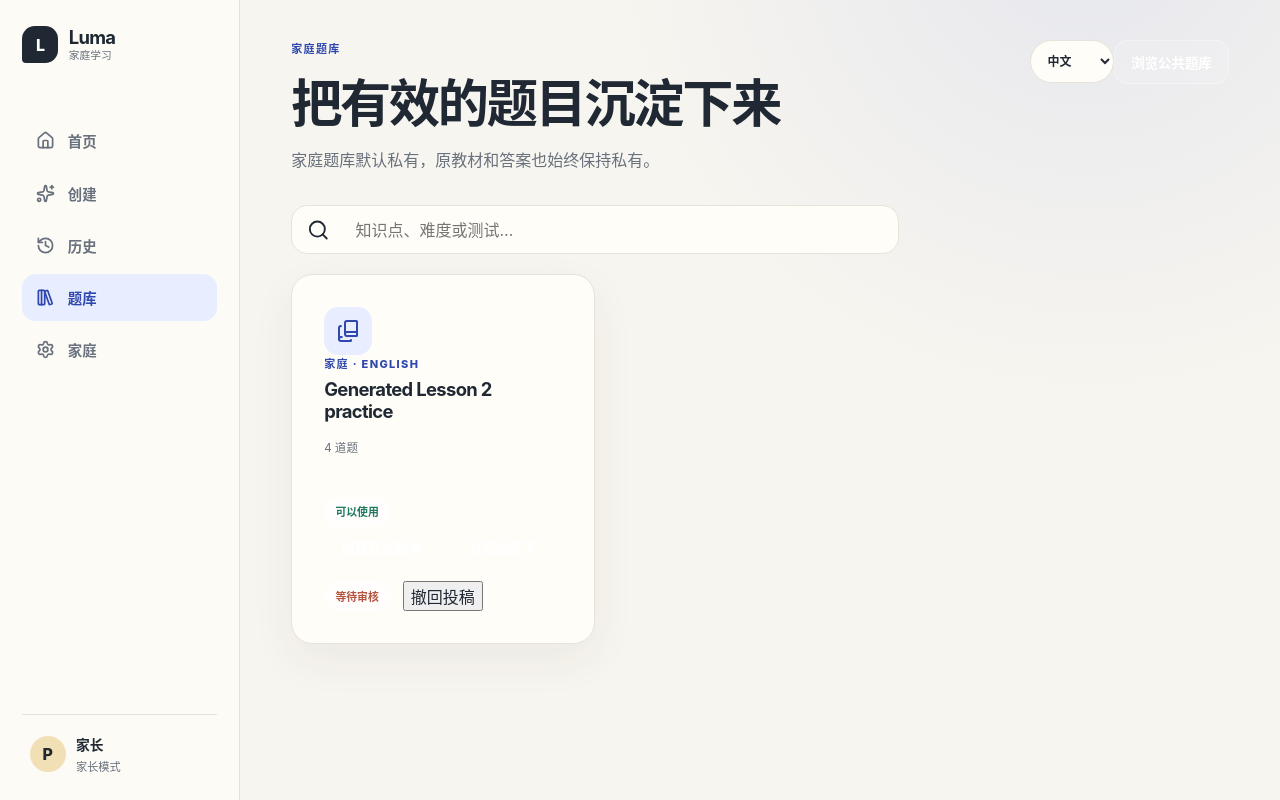
Test: LibraryPage › lets a parent withdraw their own pending public-library submission
Click the button "撤回投稿": (443,596) [403,581,483,611]
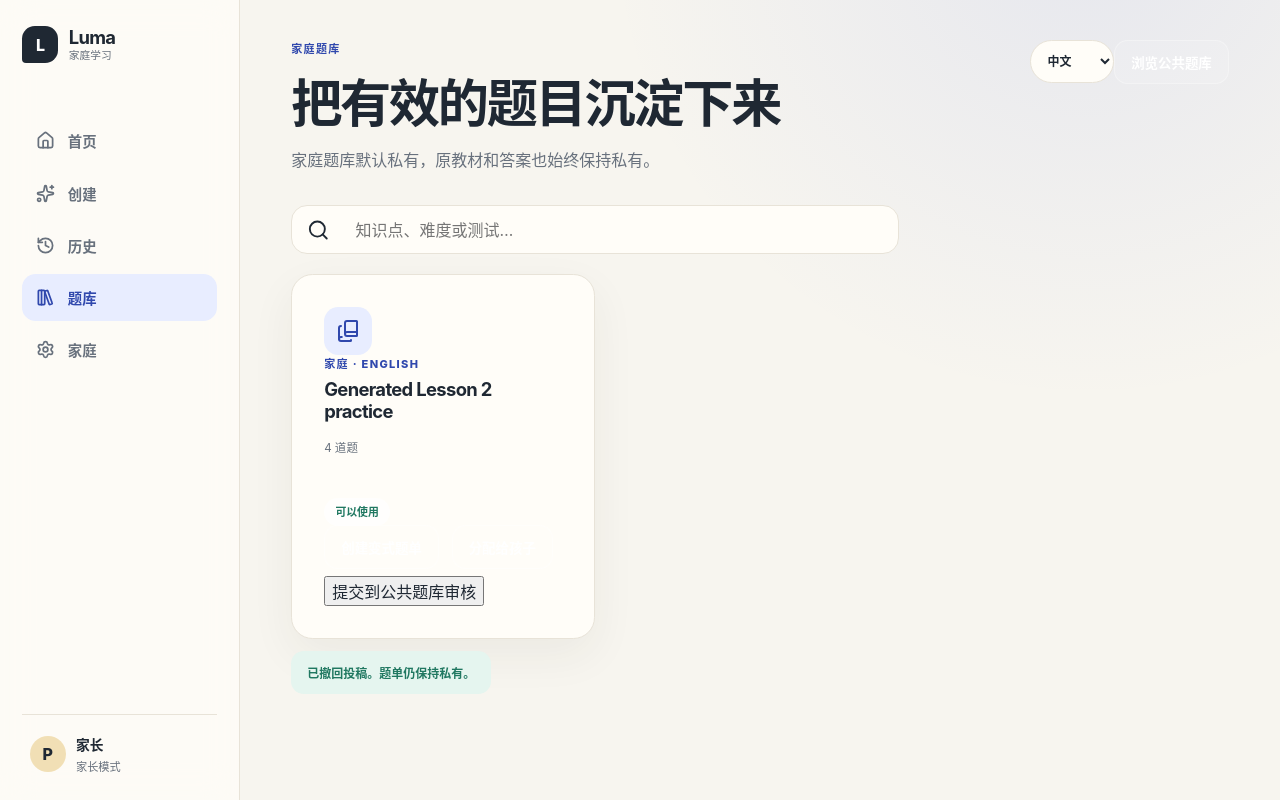
Expected: the text "已撤回投稿。题单仍保持私有。" is shown, [291,651,491,694]
Expected: the button "提交到公共题库审核" is shown, [324,576,484,606]
